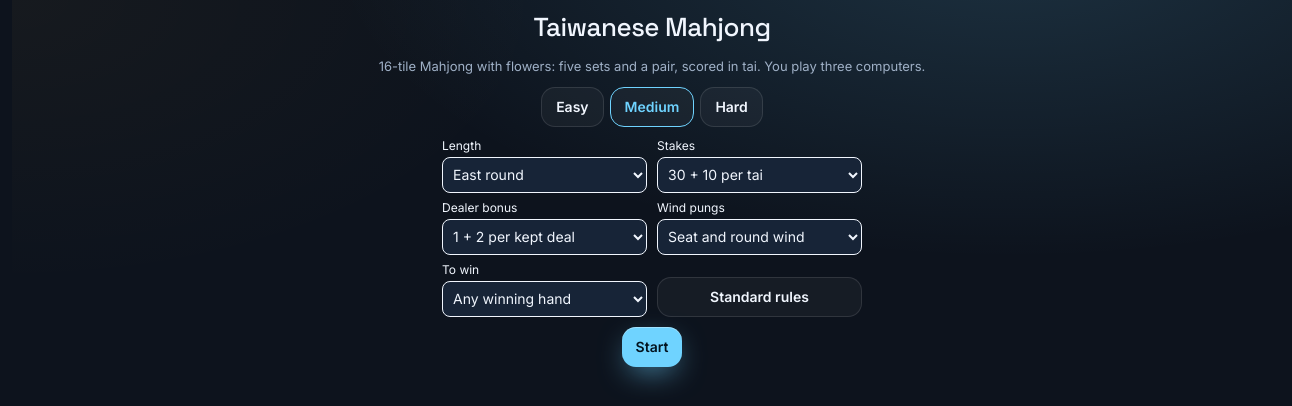
Test: Taiwanese Mahjong › deals you 16 tiles and, as dealer, a 17th you drew
The width and height of the screenshot is (1292, 406).
Select "Single hand" in the dropdown labelled "Length": (544, 174) [442,156,647,192]
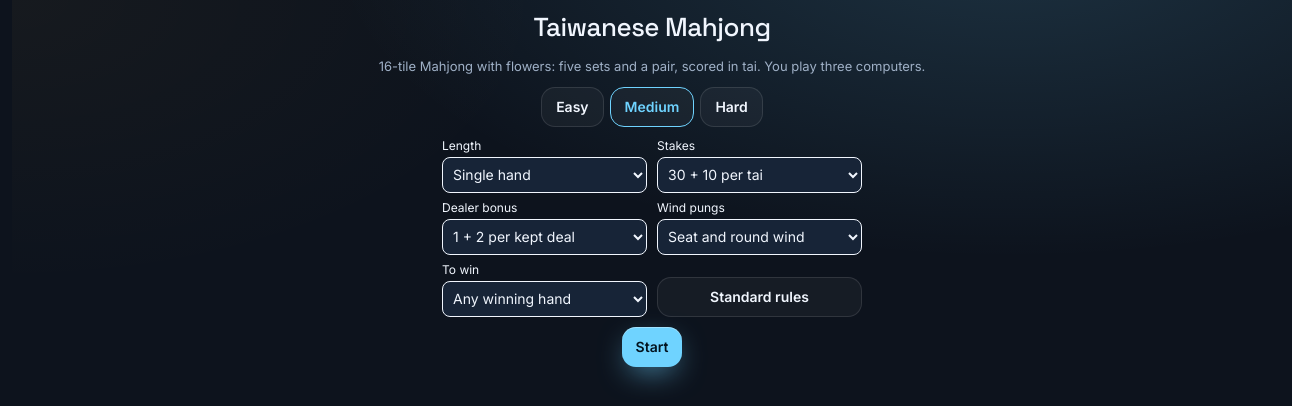
Click the button "Start": click(652, 346) [622,326,682,366]
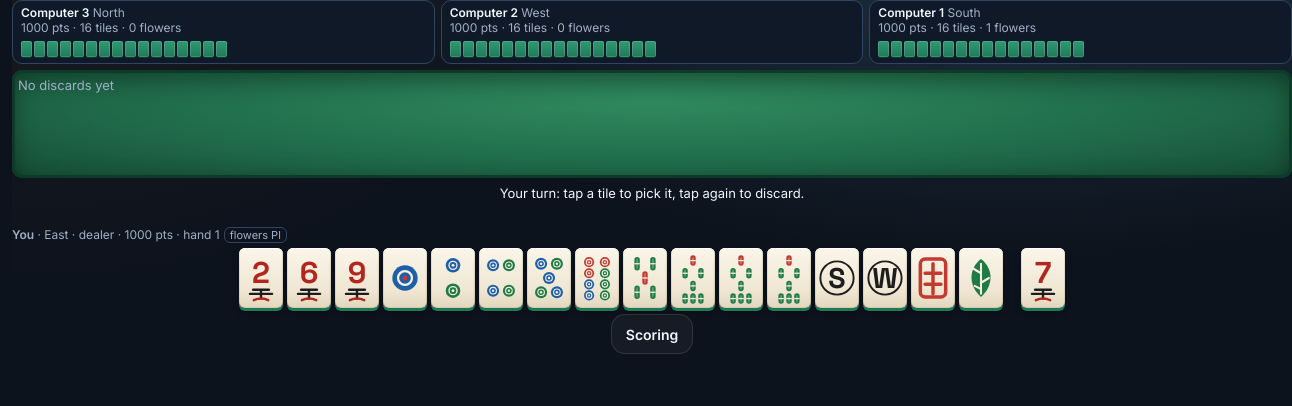
Check: the number of buttons with class "mj-tile" is 17
Check: the text "Your turn: tap a tile to pick it, tap again to discard." is shown, box [500,185,804,201]
